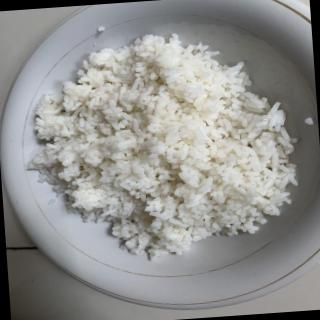Nasi: (21, 25, 300, 267)
